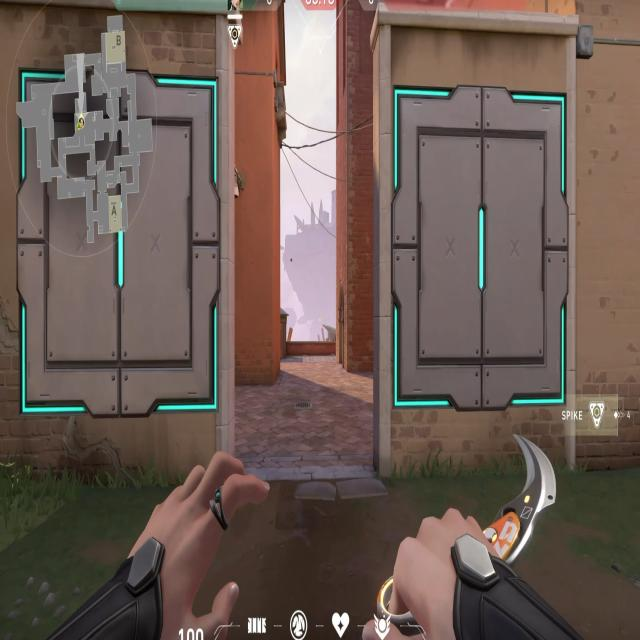Mid_Wall: (18, 66, 220, 413), (393, 82, 570, 413)
